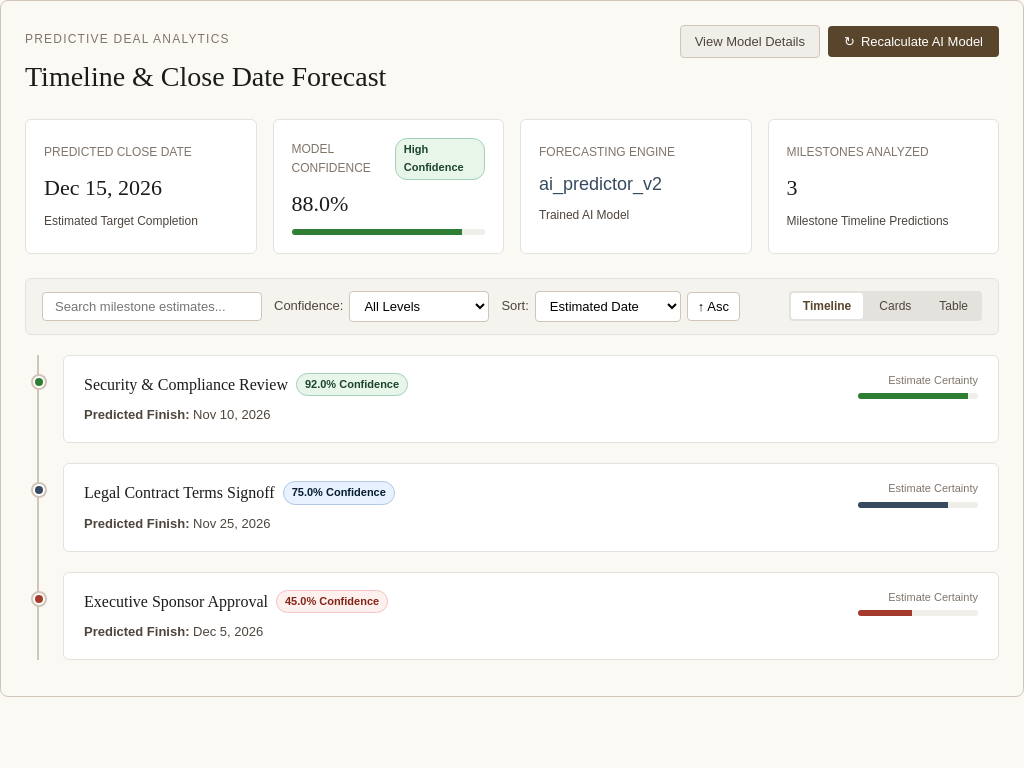
Test: TimelineForecast Component › Component Rendering & Interactive Behavior › switches view modes between timeline, cards, and table
Expected: the element with test id "timeline-view-container" is shown, [37,355,999,660]
Note: Switch to Cards view
Click the button with test id "view-cards-btn" at x=895, y=306, box [867,293,923,319]
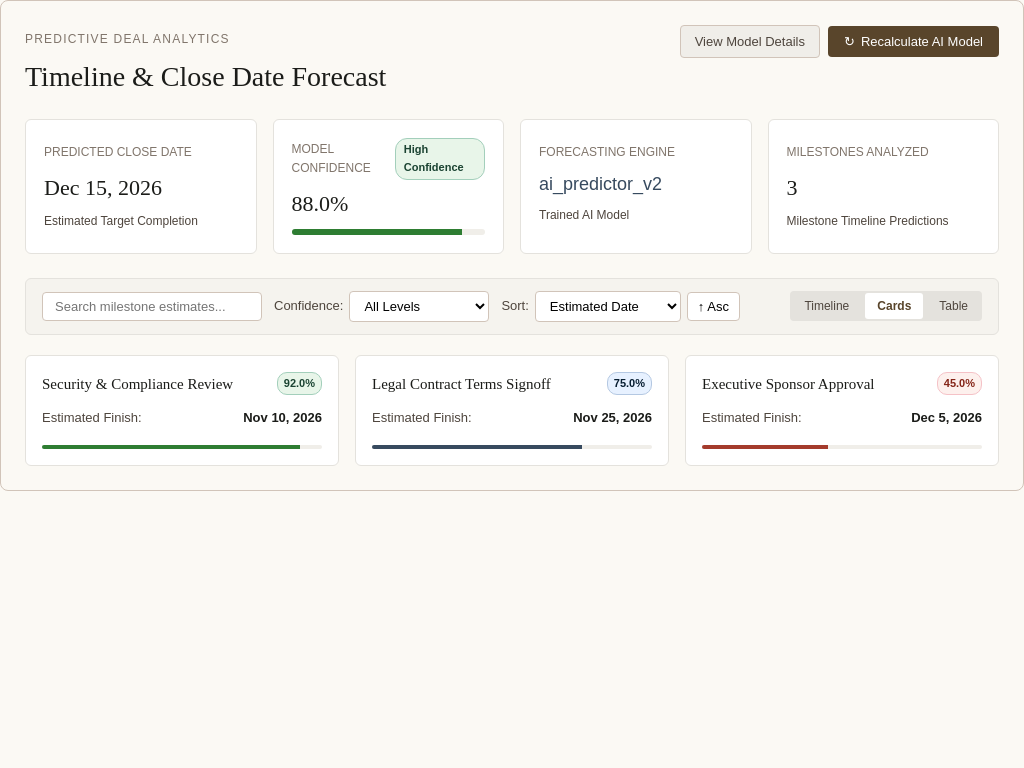
Expected: the element with test id "cards-view-container" is shown, [25,355,999,466]
Note: Switch to Table view
Click the button with test id "view-table-btn" at x=954, y=306, box [927,293,980,319]
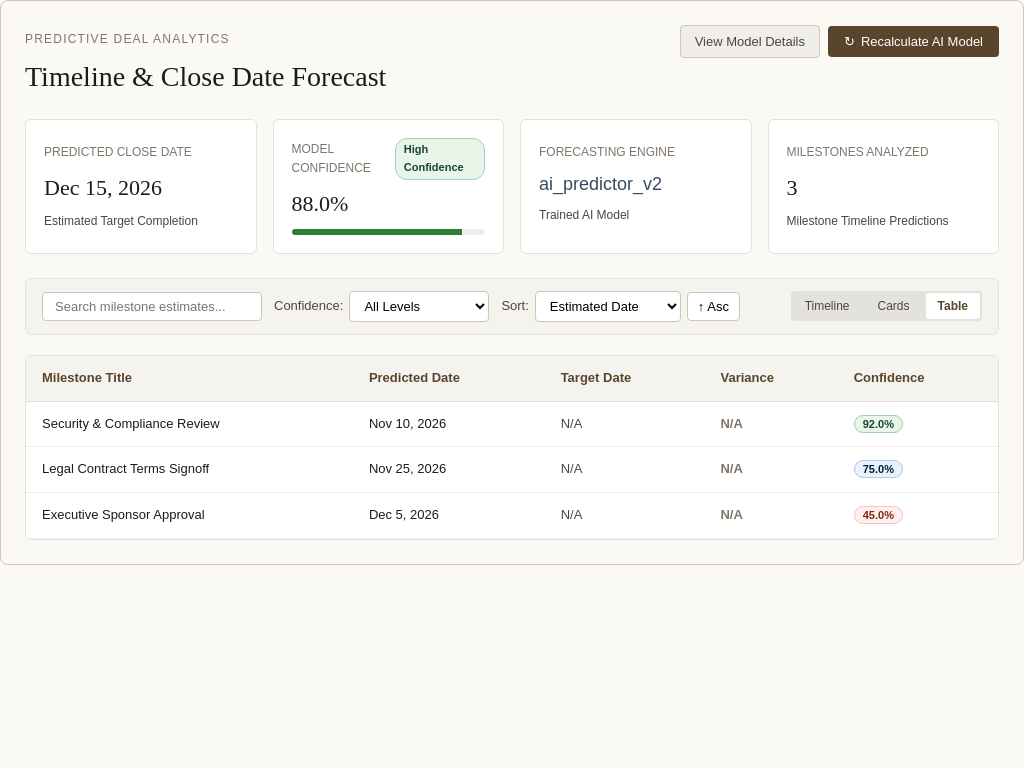
Expected: the element with test id "table-view-container" is shown, [25,355,999,540]
